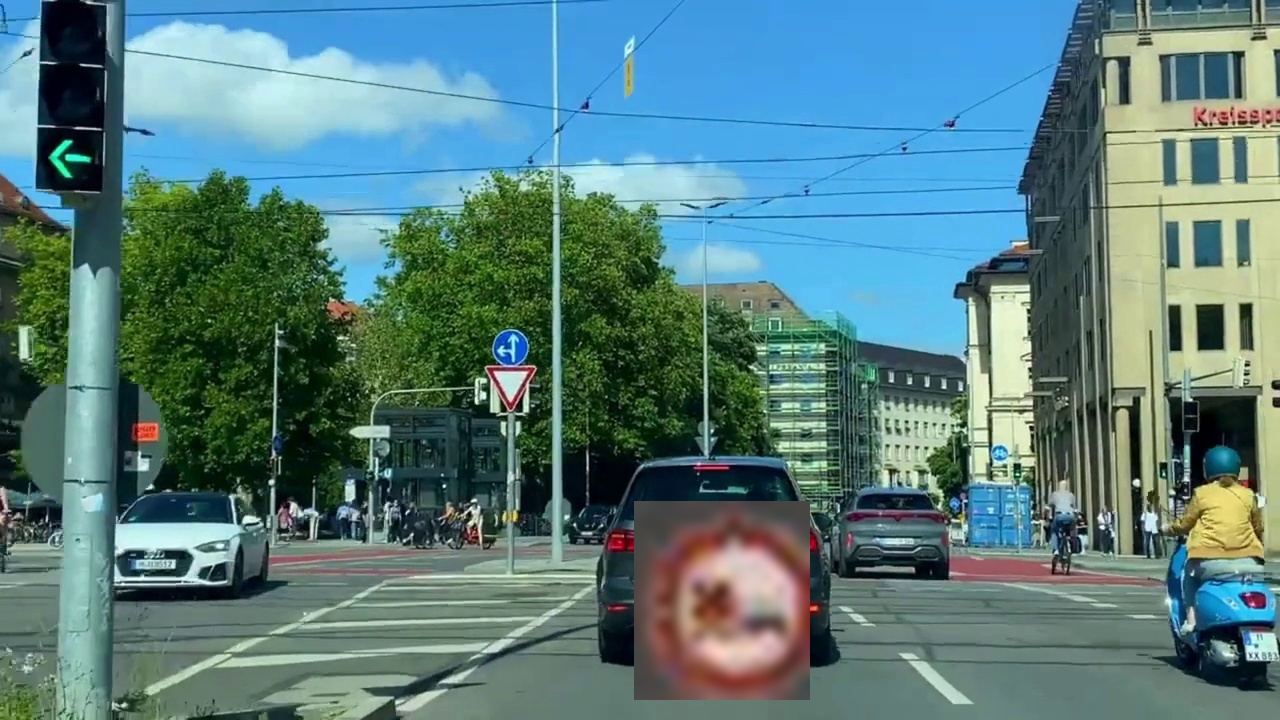No pass >3.5t: (634, 501, 810, 700)
